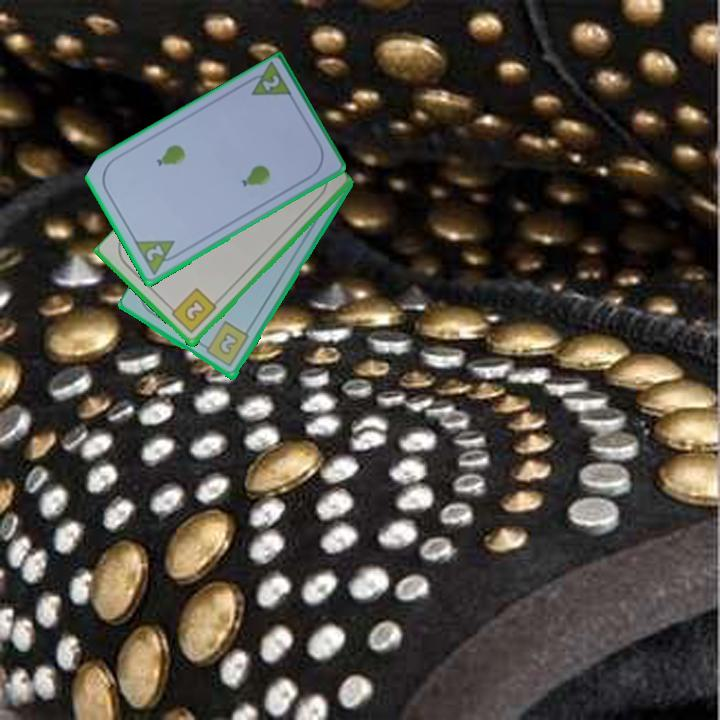2b: (165, 285, 220, 337), (198, 318, 252, 370)
2p: (131, 237, 184, 279), (258, 72, 282, 94)
